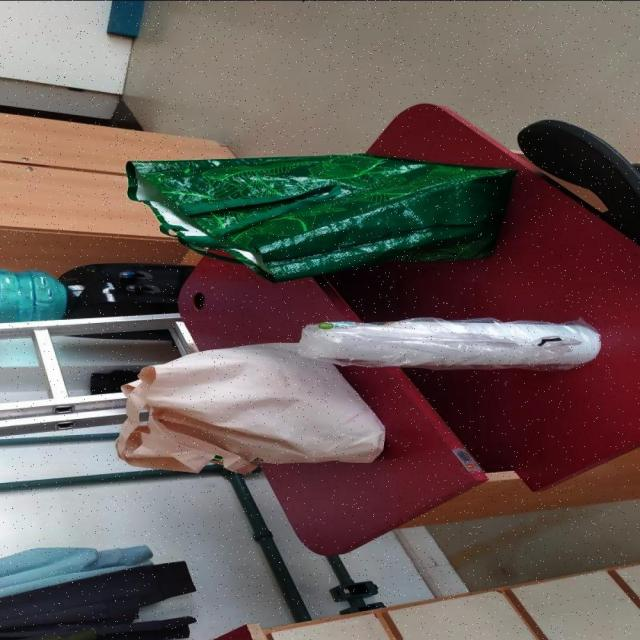Bag: (123, 152, 520, 283), (119, 339, 388, 470)
